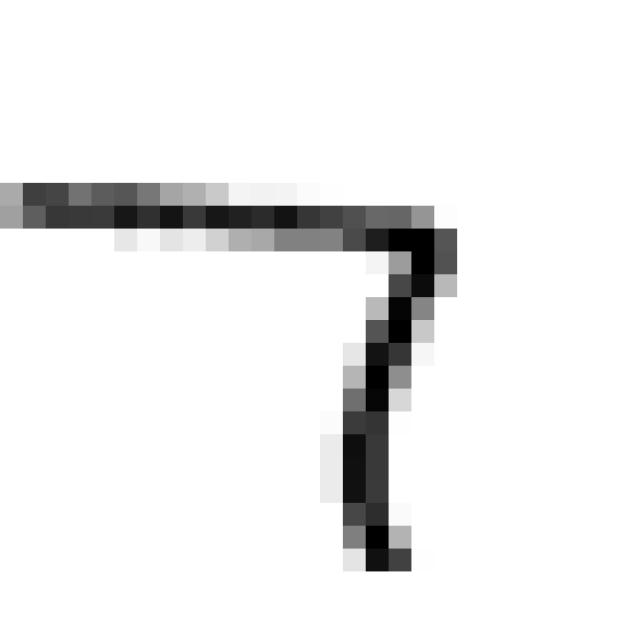6 -six-: (0, 160, 472, 596)
